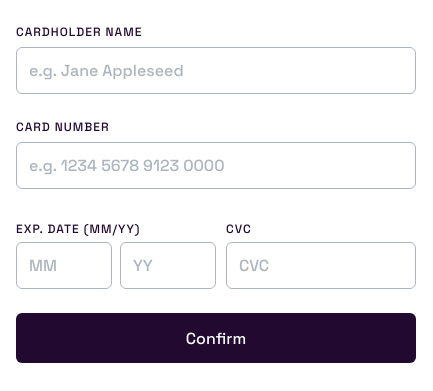
Test case: FormDetails.vue › validates name input rejects numbers
Type "1234" into the field labelled "Cardholder Name".
click(216, 71); type("1234")  # box [16,47,416,94]
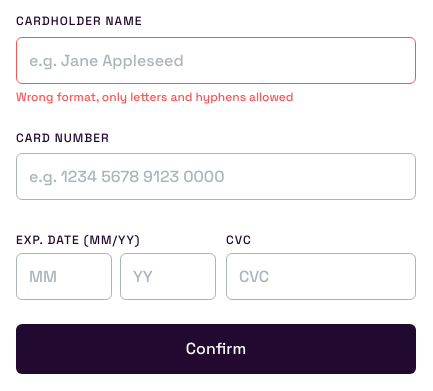
Check: the text "Wrong format, only letters and hyphens allowed" is shown, box [16,89,294,105]
